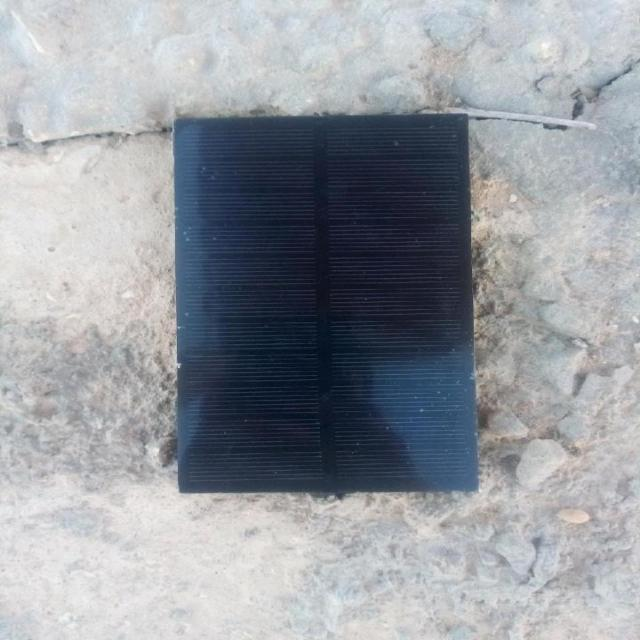no faulty: (178, 125, 478, 495)
